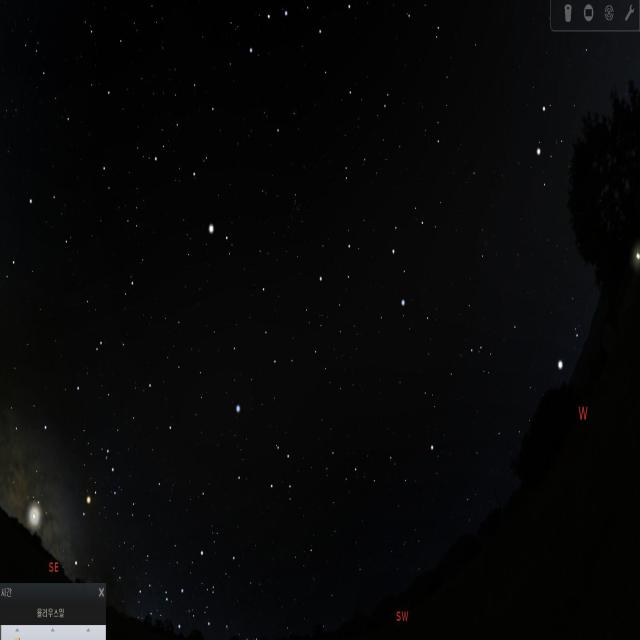bootes: (172, 66, 224, 244)
canis_minor: (551, 321, 588, 380)
gemini: (537, 99, 611, 198)
leo: (311, 203, 433, 334)
moon: (22, 483, 50, 542)
scorpius: (78, 427, 128, 524)
